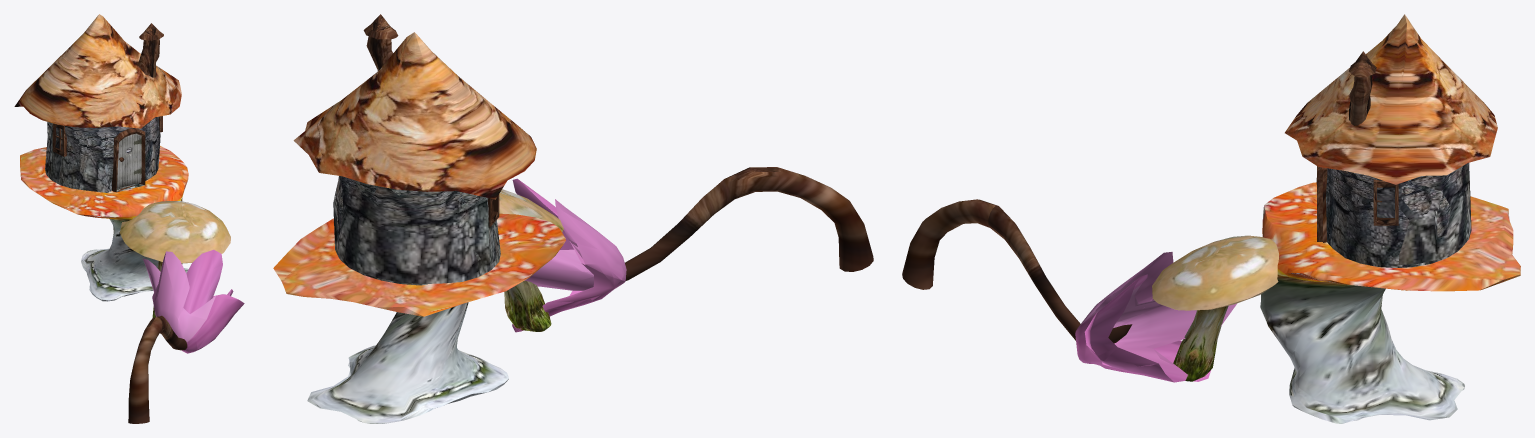
File: lil tree house.dae
3 views of the same model, side by side, from view 1: azimuth 30°, elevation 25°; view 2: azimuth 150°, elevation 25°; view 3: azimuth 270°, elevation 25° (orthographic). The views are drawn at different scales.
Visible parts, largest first — view 1: box, Mushroom 1, Flower, wmushrrom 2, ID0inst, door, smokestack; view 2: box, Mushroom 1, ID0inst, Flower, wmushrrom 2; view 3: box, Mushroom 1, wmushrrom 2, Flower, ID0inst.
Part boxes in pixels (x1,y1,x2,y2): box: (14, 14, 181, 192); Mushroom 1: (20, 146, 188, 301); Flower: (142, 249, 244, 353); wmushrrom 2: (119, 201, 230, 317); ID0inst: (128, 315, 187, 423); door: (117, 133, 141, 188); smokestack: (139, 23, 163, 40); box: (293, 32, 536, 285); Mushroom 1: (273, 213, 565, 423); ID0inst: (625, 167, 873, 280); Flower: (512, 178, 626, 332); wmushrrom 2: (499, 189, 563, 331); box: (1285, 14, 1497, 268); Mushroom 1: (1260, 182, 1520, 423); wmushrrom 2: (1152, 235, 1278, 381); Flower: (1075, 252, 1237, 382); ID0inst: (902, 199, 1132, 343).
Bounding box in the file's own units: 3.84 × 4.34 × 6.64.
